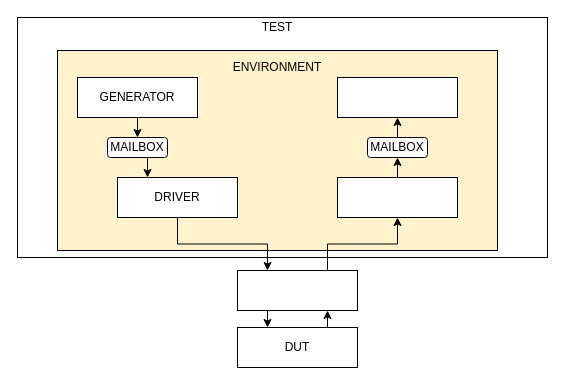
The diagram is 565 pixels wide and 385 high, and some of its shapes have lost their labels. Here are the shapes that lost their labels. From the top down, the centre of each, then its label:
At pixel 397 97: "SCOREBOARD".
At pixel 397 197: "MONITOR".
At pixel 297 290: "INTERFACE".
